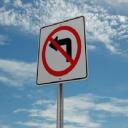NoVirarEsquerda: (40, 24, 86, 78)
